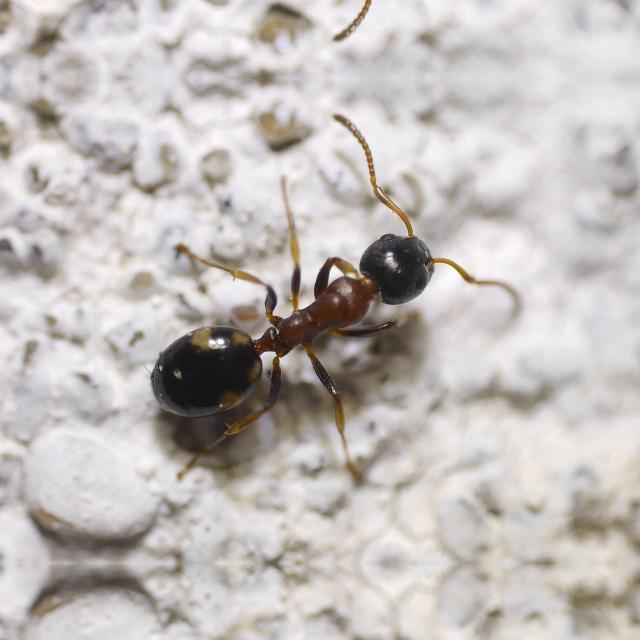Dolichoderus: (111, 176, 502, 450)
